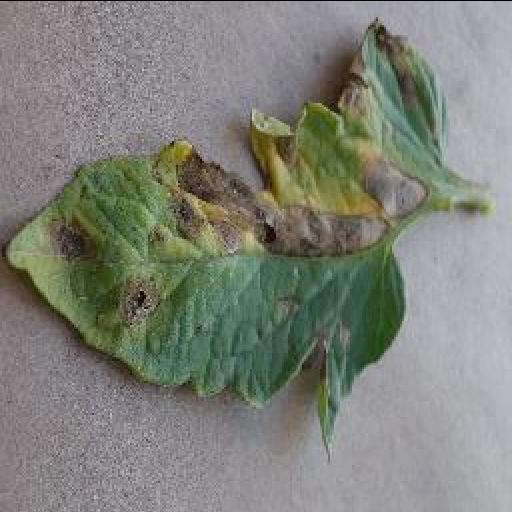Early Blight: (4, 22, 446, 452)
